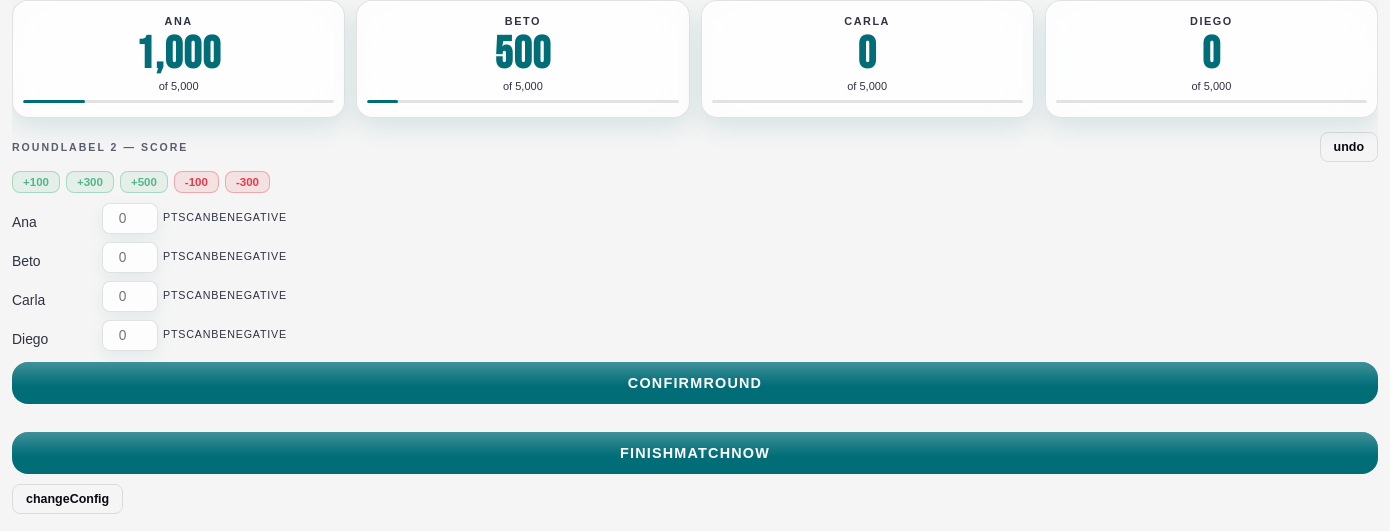
it: CanastaNewMatch with more than 2 players (issue #31) › legacy 2-slot draft with 4 players renders padded without crashing
Check: the element with test id "team-score-0" reads "Ana 1,000 of 5,000", box x1=136 y1=28 x2=221 y2=81
Check: the element with test id "team-score-1" shows "500", box x1=494 y1=28 x2=551 y2=81
Undo against a legacy 2-slot hist entry subtracts only from the first two slots
What coordinates should you click on to do the following:
click the button "undo"
I would click on:
 (1349, 147)
Its box is x1=1320 y1=132 x2=1378 y2=162.
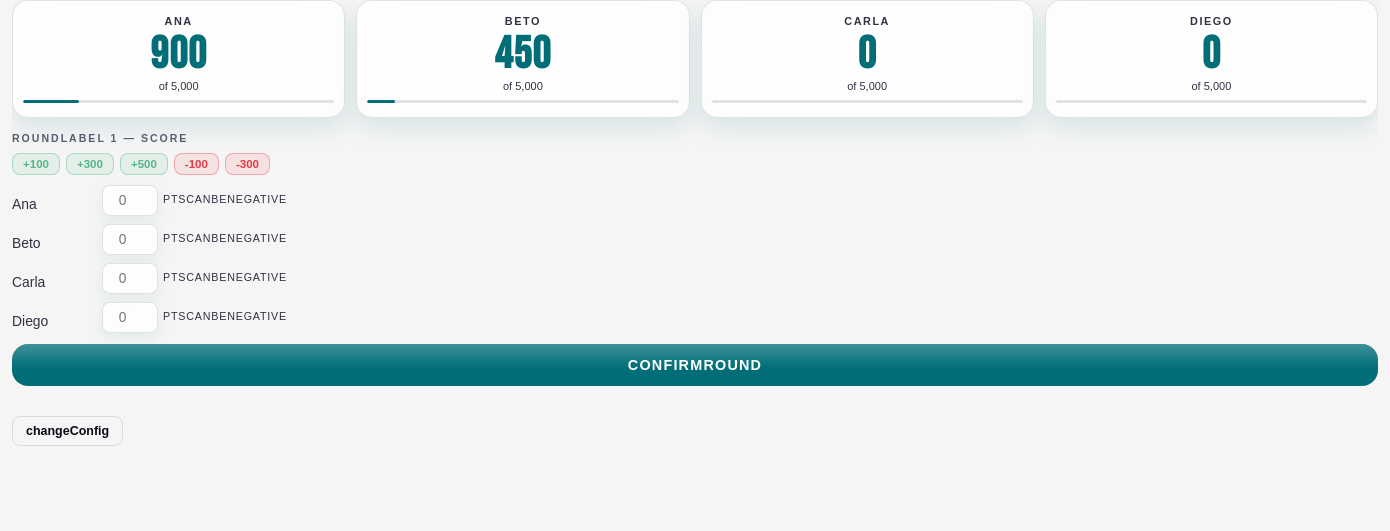
Check: the element with test id "team-score-2" shows "0", box x1=858 y1=28 x2=877 y2=81
Check: the element with test id "team-score-0" shows "900", box x1=150 y1=28 x2=207 y2=81
Check: the element with test id "team-score-1" shows "450", box x1=494 y1=28 x2=551 y2=81
